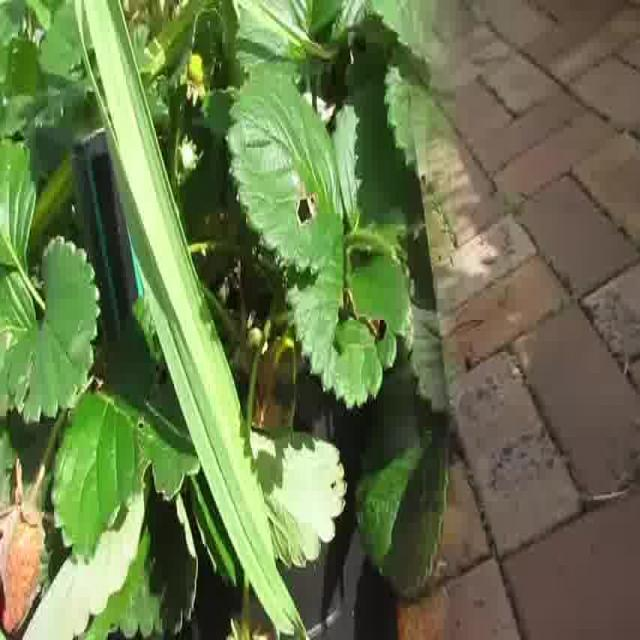Moho gris: (0, 494, 45, 634)
